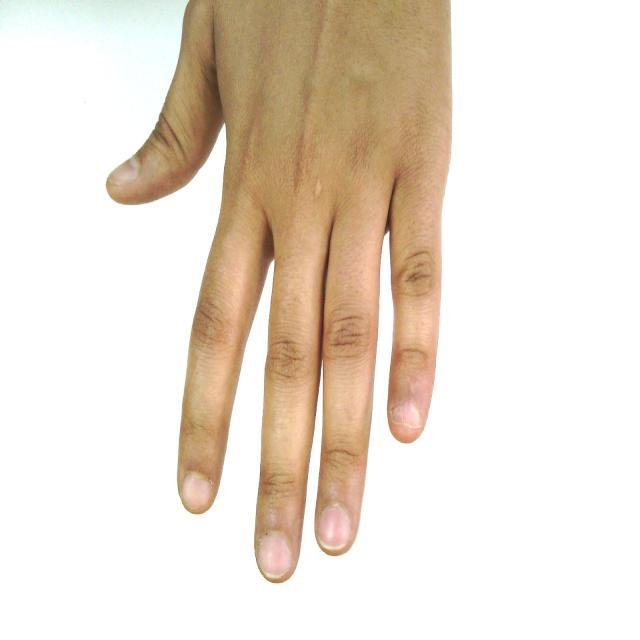Fingernail: (318, 505, 351, 550), (259, 538, 291, 580), (182, 474, 211, 509), (110, 159, 137, 186), (393, 406, 419, 427)
